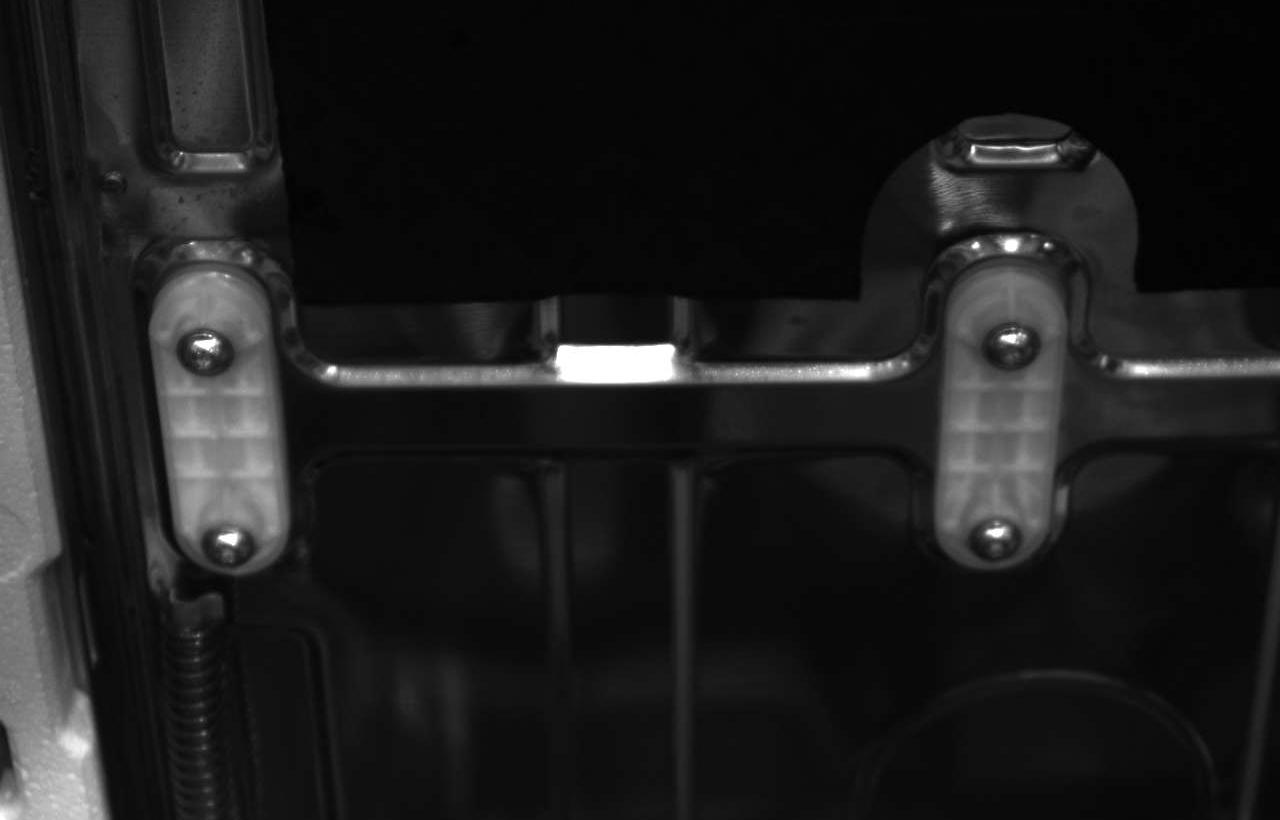vida-ok: (170, 319, 241, 387), (961, 499, 1027, 568), (980, 312, 1047, 379), (199, 517, 264, 575)
